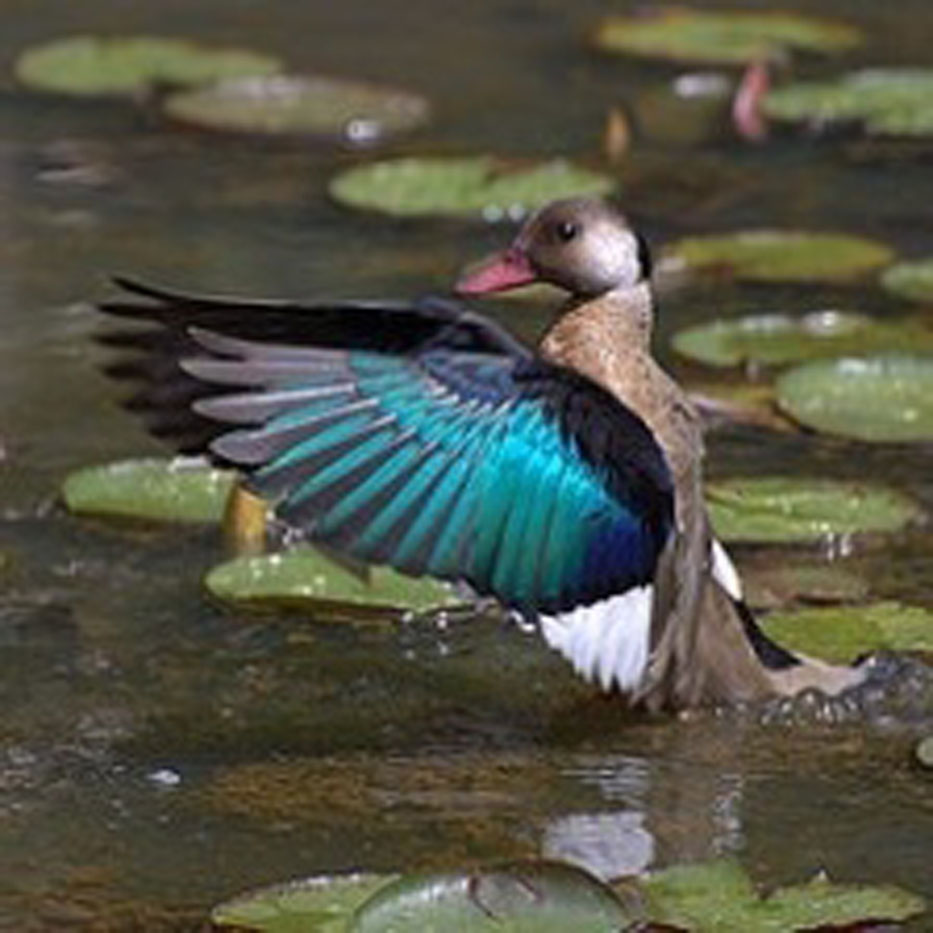Mencari Makan di Lumpur: (433, 241, 528, 305)
